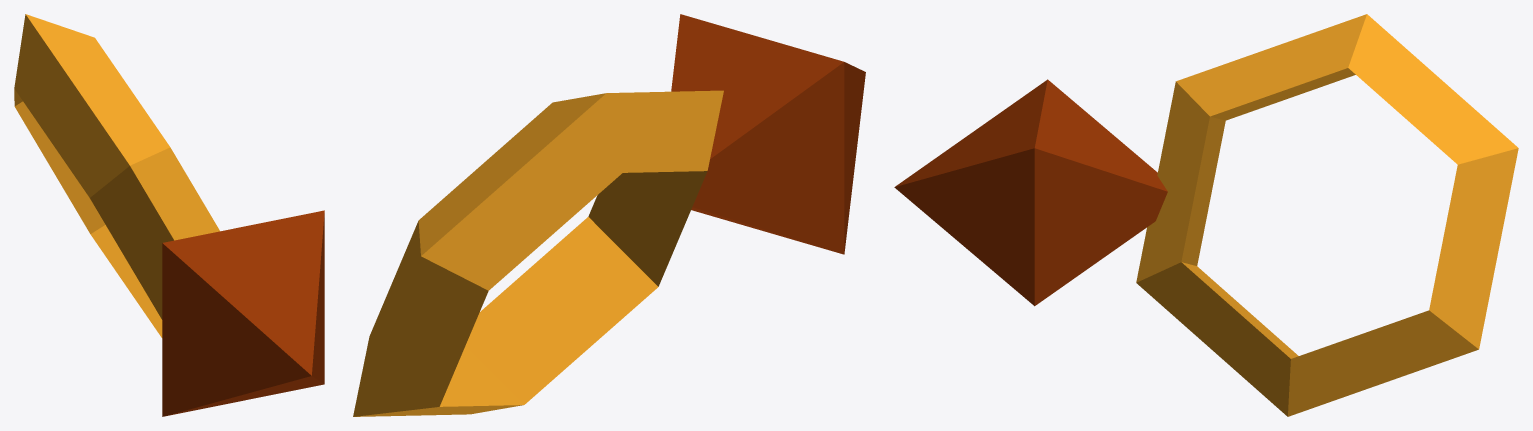
The model's file is Earring 03.FBX.
The picture shows the model from 3 angles, left to right: view 1: azimuth 30°, elevation 25°; view 2: azimuth 150°, elevation 25°; view 3: azimuth 270°, elevation 25°; orthographic projection. The views are drawn at different scales.
Visible parts, largest first — view 1: Earring 03; view 2: Earring 03; view 3: Earring 03.
Part boxes in pixels (x1,y1,x2,y2): Earring 03: (14,14,324,416); Earring 03: (353,14,865,416); Earring 03: (894,14,1518,416).
Size of the model in its own units: 3.94 by 6.24 by 10.73.
Materials: 1 (1 with a texture image).
